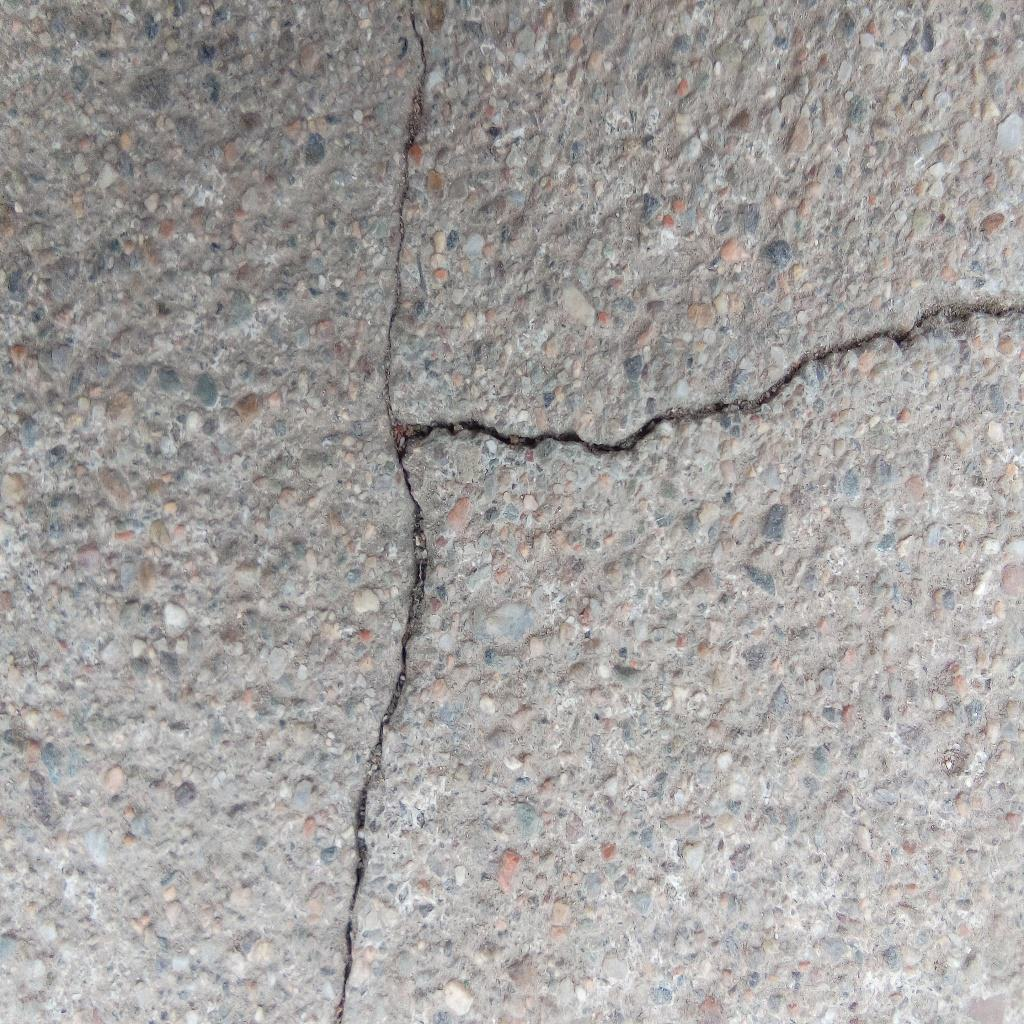Crack: (333, 1, 430, 1024), (400, 304, 1024, 458)
